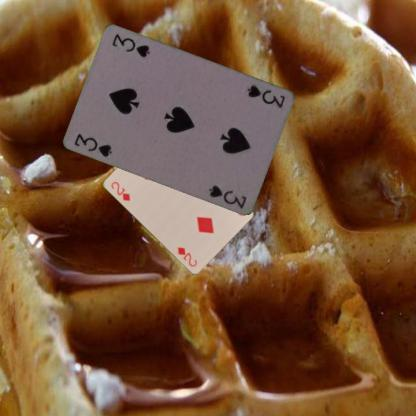2d: (108, 179, 131, 202)
3s: (72, 129, 113, 159), (245, 82, 287, 109)
